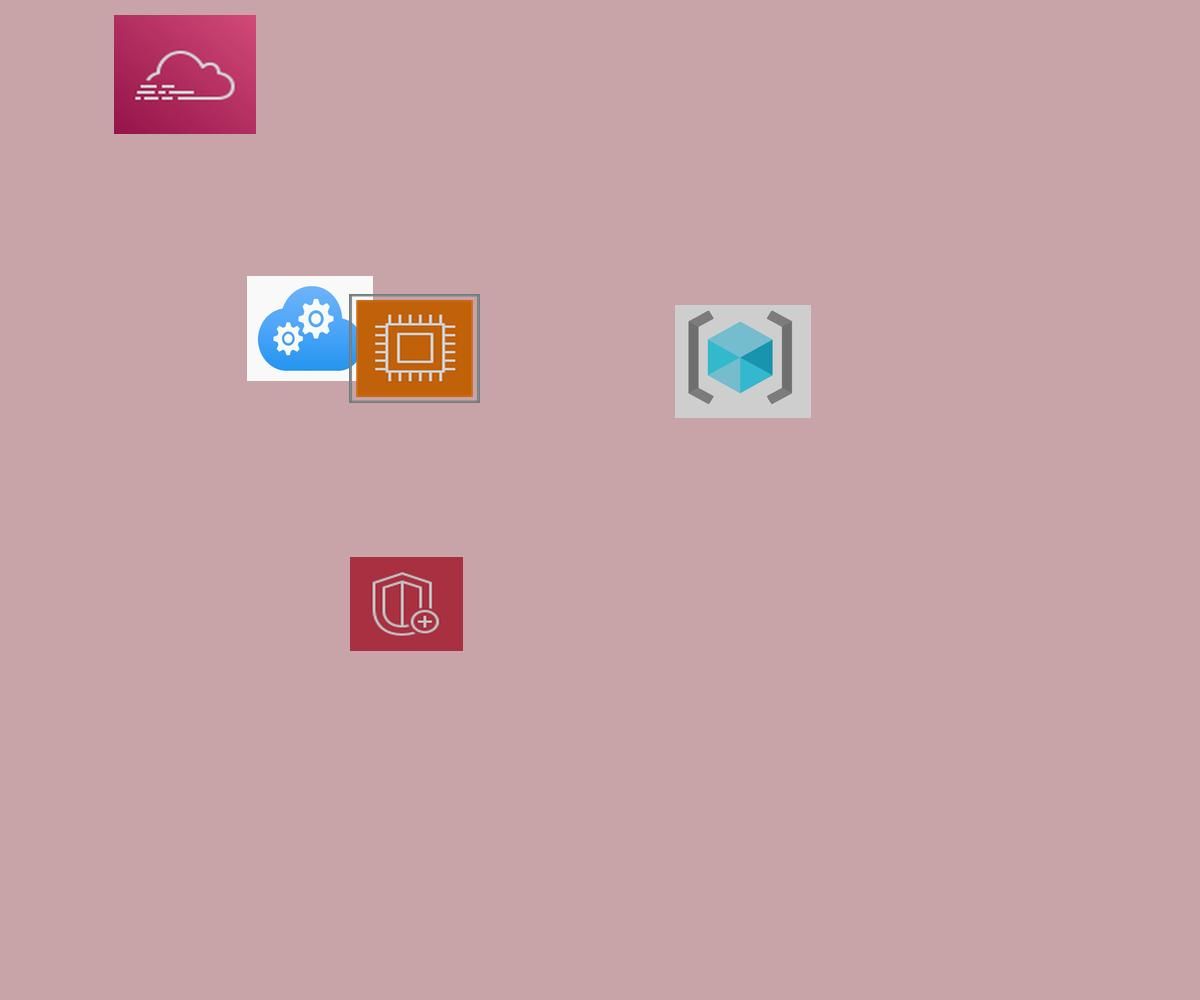AWS-Category_Compute: (349, 294, 480, 403)
AWS-CloudTrail: (114, 15, 256, 134)
AWS-Shield: (350, 557, 463, 651)
Azure_cloud_services: (247, 276, 373, 381)
Azure_resource_group: (675, 305, 811, 418)
